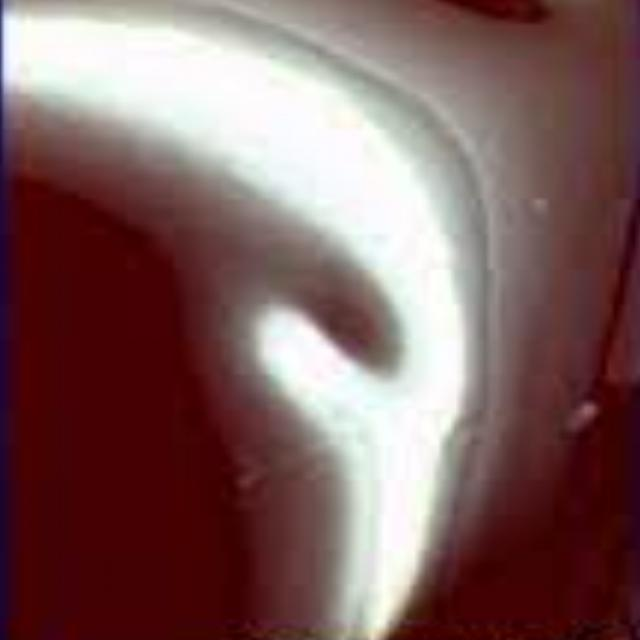dents: (241, 214, 434, 459)
